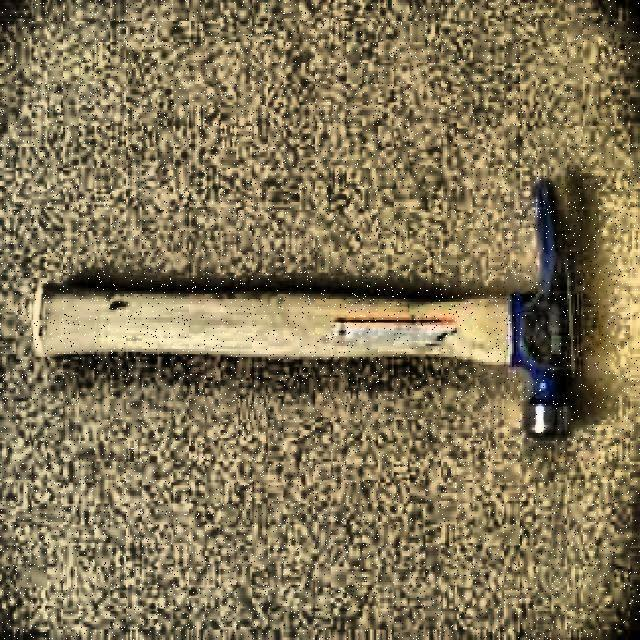hammer: (36, 179, 579, 439)
